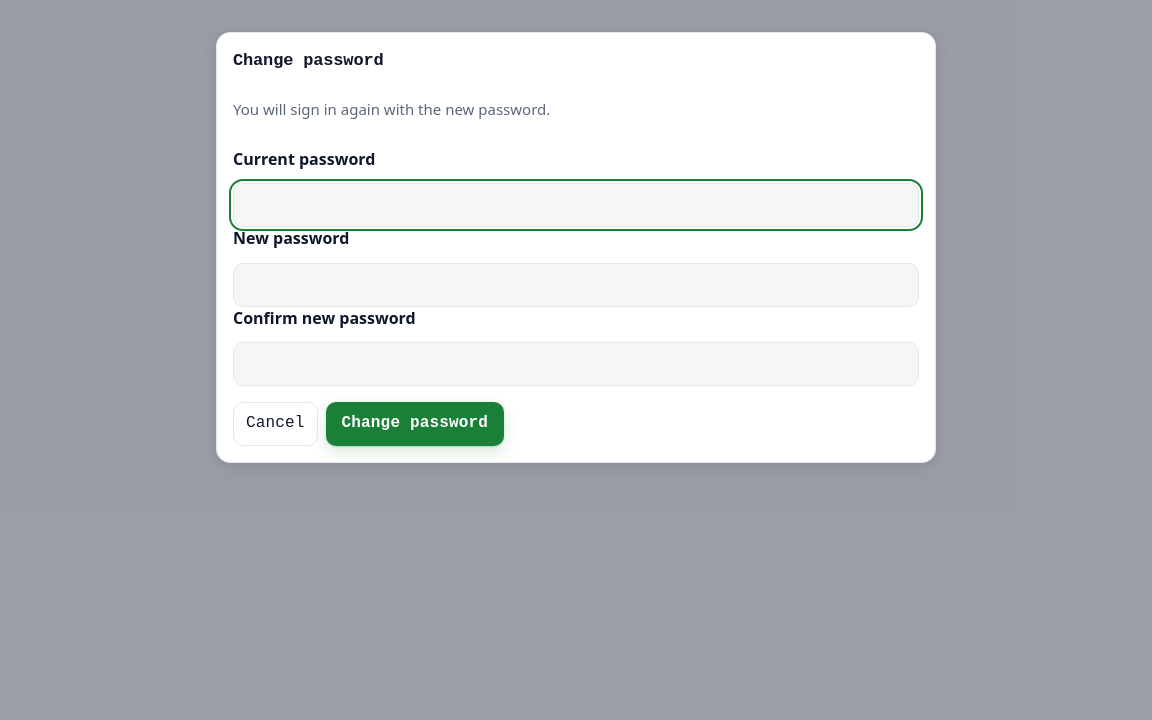
ChangePasswordDialog › shows weak-new error on validation failure
In the password field labelled "Current password": coordinates (576, 205) 233,183 -> 919,227, type "old-secret-password"
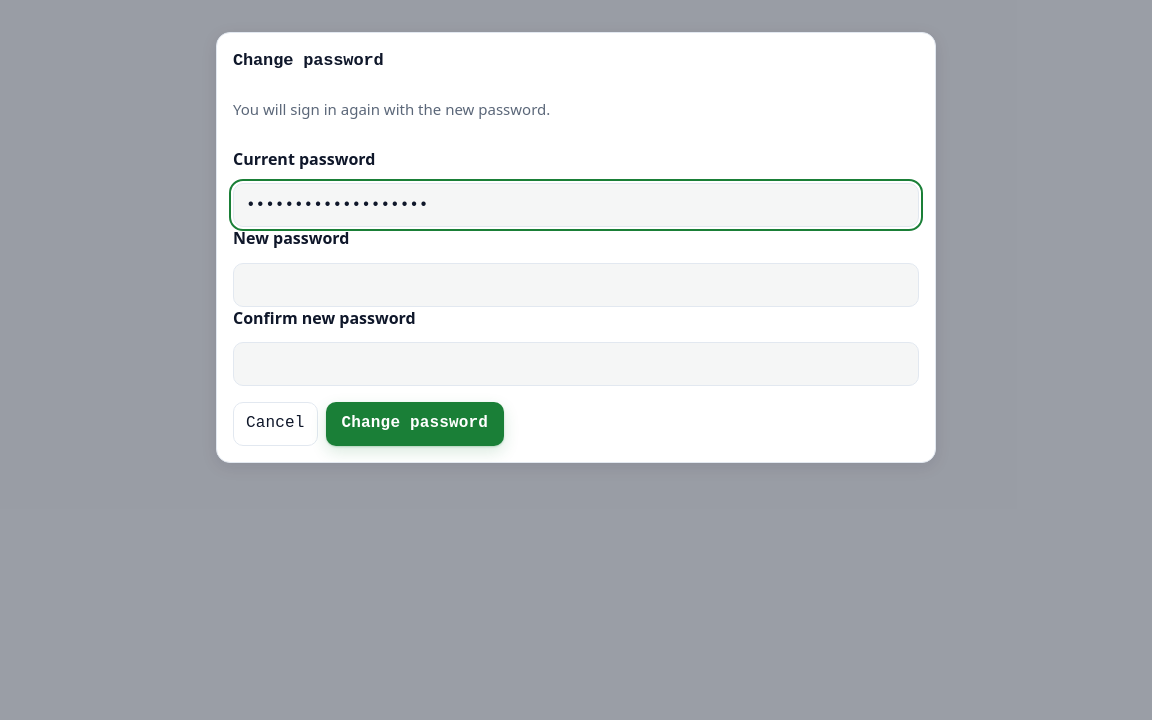
In the password field labelled "New password": coordinates (576, 284) 233,262 -> 919,306, type "short"
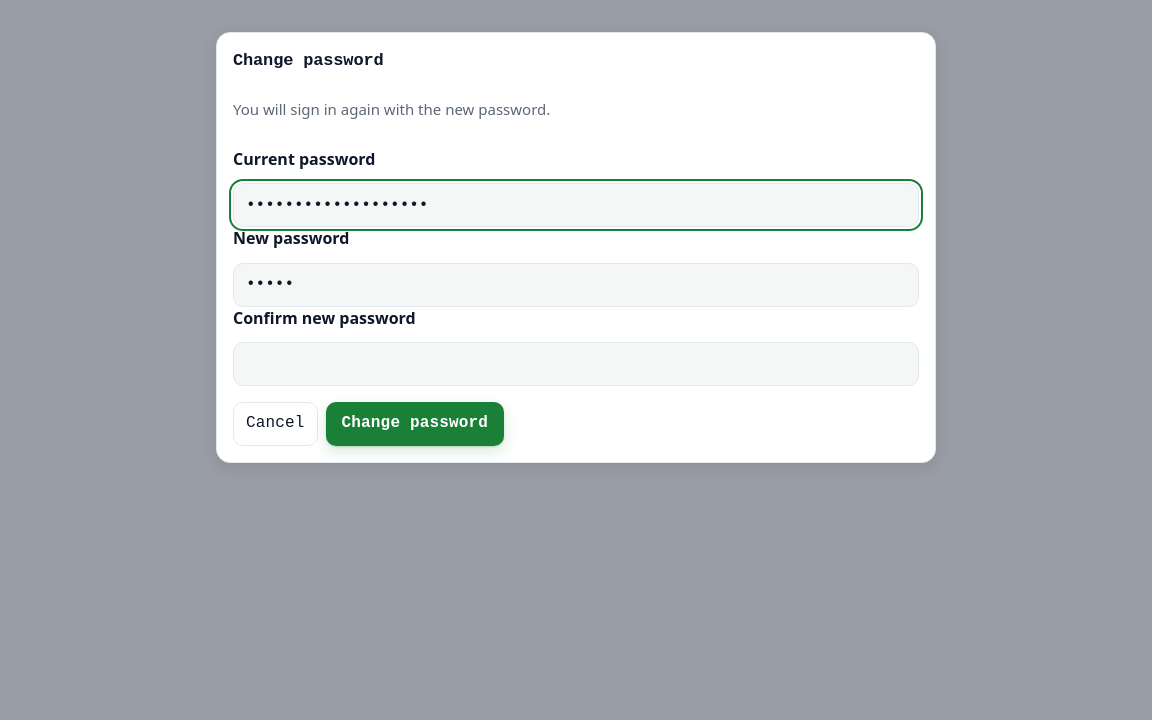
In the password field labelled "Confirm new password": coordinates (576, 364) 233,342 -> 919,386, type "short"
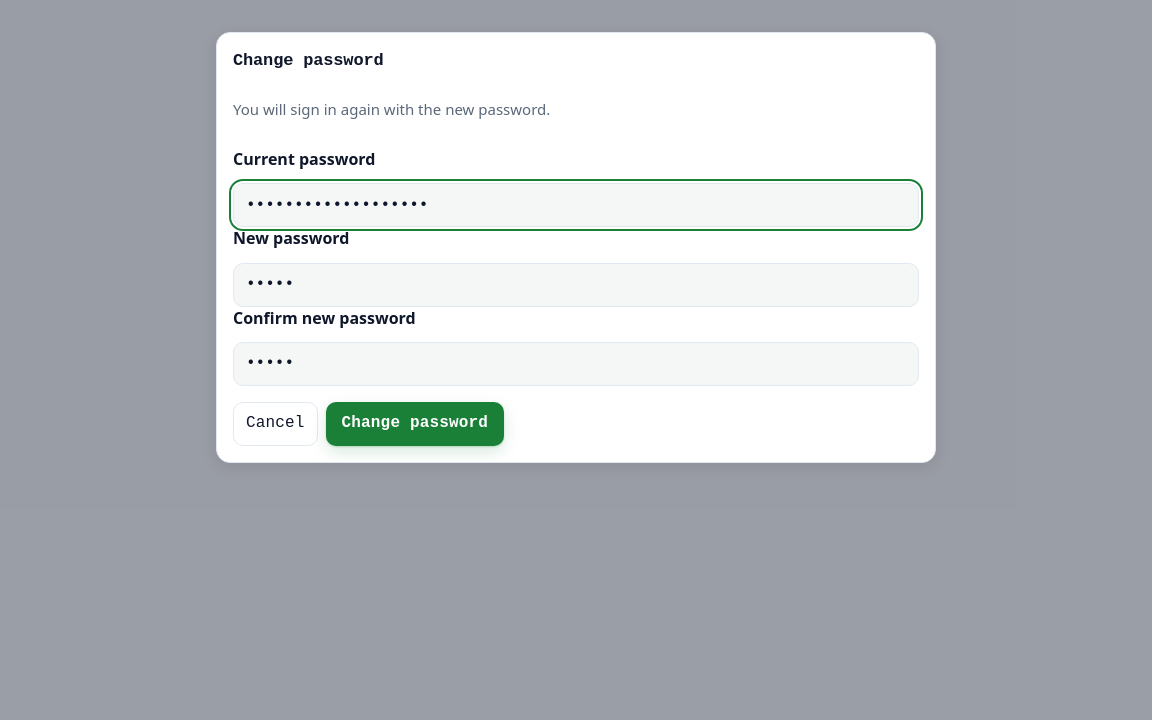
Click the button "Change password": coordinates (415, 424) 326,402 -> 504,446
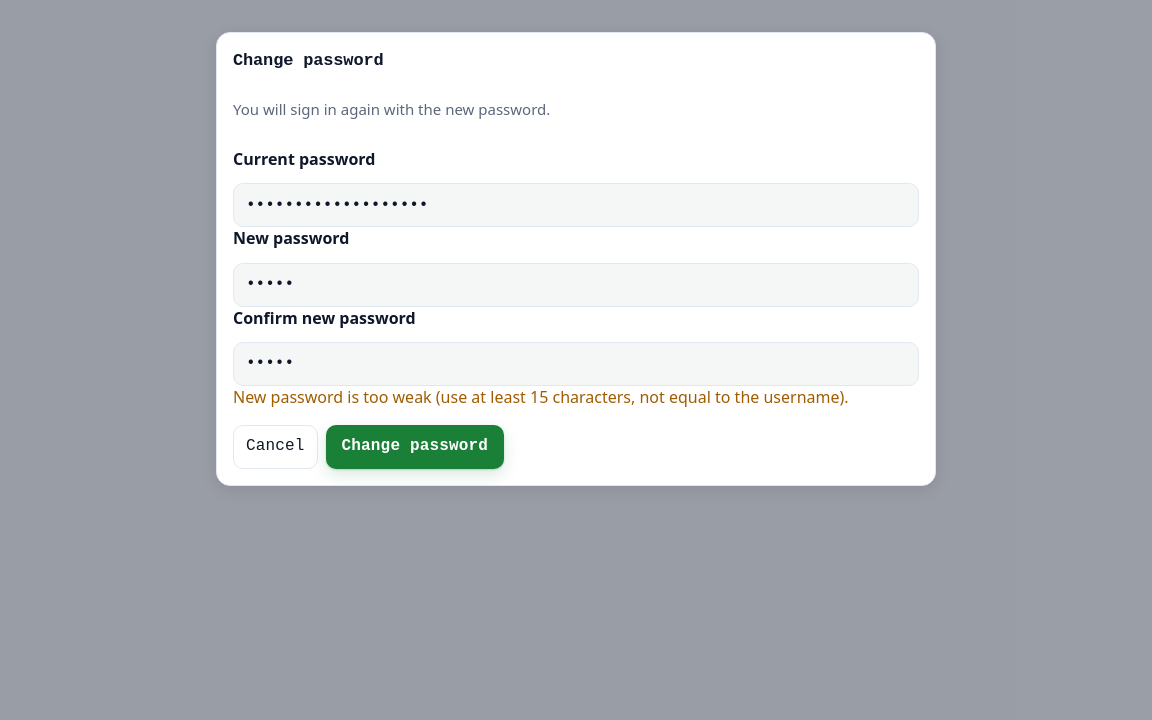
Result: the text "too weak" is shown at 233,386 -> 849,408
